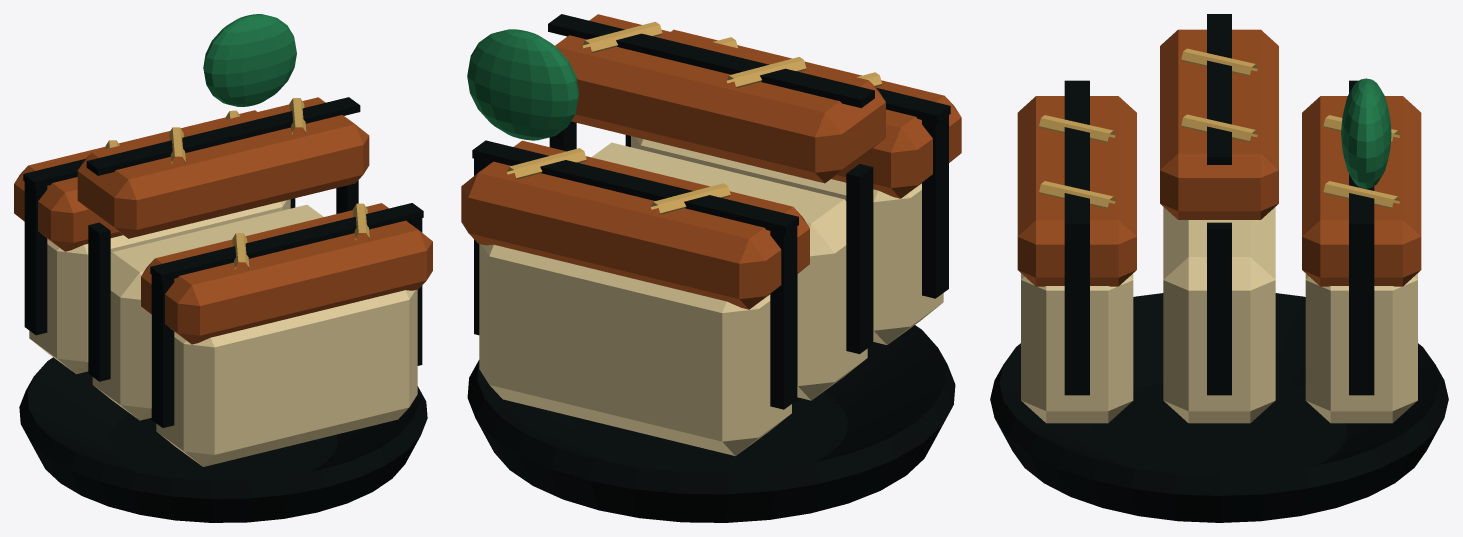
File: panel_fragment_food.fbx
3 renders of one model, left to right at view 1: azimuth 30°, elevation 25°; view 2: azimuth 150°, elevation 25°; view 3: azimuth 270°, elevation 25°, orthographic. The views are drawn at different scales.
Visible parts, largest first — view 1: Part_0; view 2: Part_0; view 3: Part_0.
Boxes of the visible parts, x1,y1,x2,y2 form: Part_0: [14, 14, 432, 522]; Part_0: [461, 14, 961, 522]; Part_0: [990, 14, 1448, 522].
Size of the model in its own units: 1 by 1 by 1.
